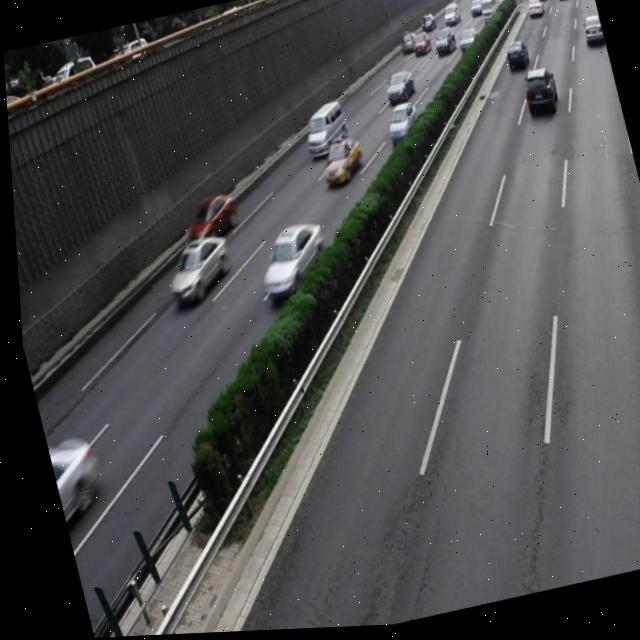car: (247, 220, 331, 299), (153, 230, 236, 309), (39, 430, 104, 527), (177, 192, 239, 247), (311, 137, 364, 190), (516, 70, 559, 125), (379, 101, 420, 148)
truck: (295, 101, 349, 159)
